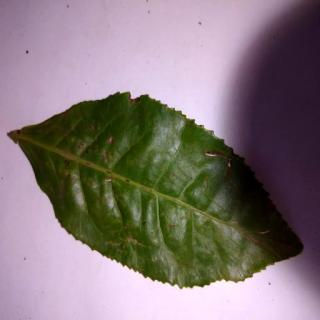Bird Eye Spot: (10, 92, 305, 289)
